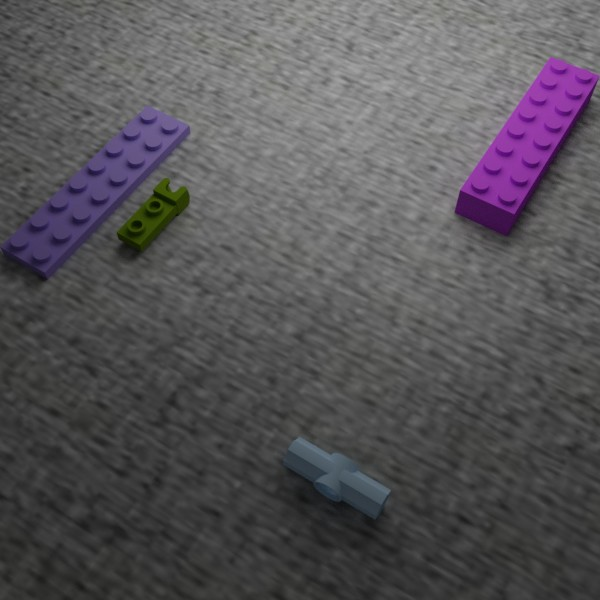lego: (0, 105, 190, 279), (454, 56, 599, 236), (283, 436, 391, 519), (116, 177, 189, 252)
